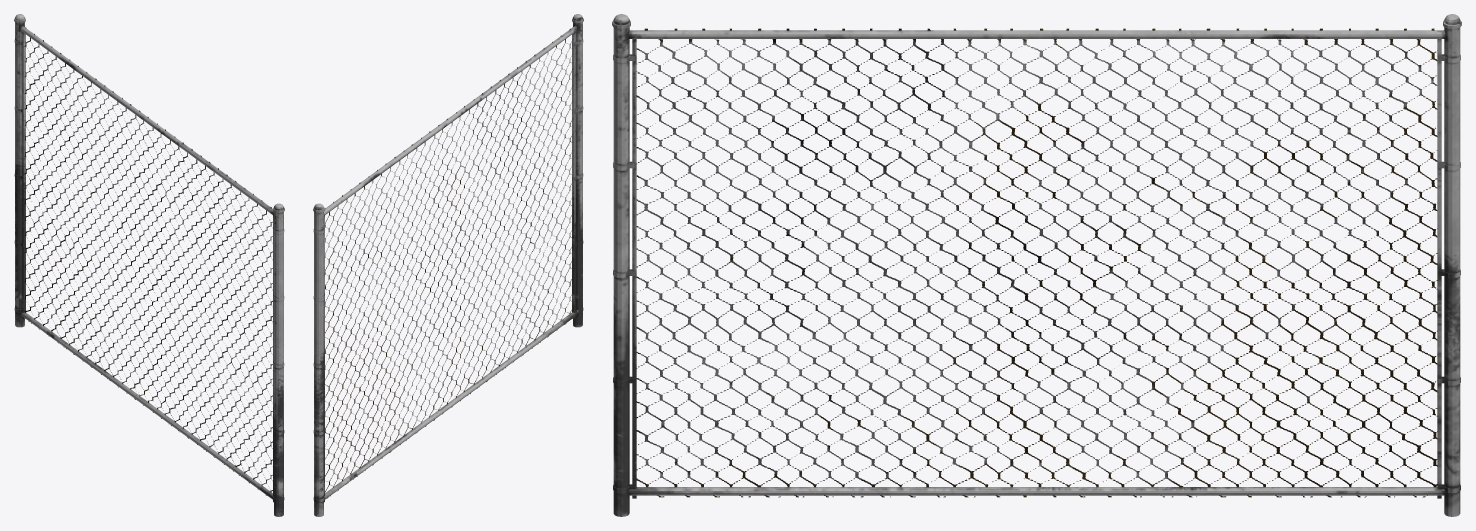
File: Rejas2.fbx
The picture shows the model from 3 angles, left to right: view 1: azimuth 30°, elevation 25°; view 2: azimuth 150°, elevation 25°; view 3: azimuth 270°, elevation 25°; orthographic projection. The views are drawn at different scales.
Visible parts, largest first — view 1: Plane.001, Cylinder, Cylinder.002, Cube, Cylinder.001; view 2: Plane.001, Cylinder, Cylinder.002, Cube, Cylinder.001; view 3: Plane.001, Cylinder, Cylinder.002, Cube, Cylinder.001.
Part boxes in pixels (bbox=[...]): Plane.001: bbox=[24, 27, 272, 495]; Cylinder: bbox=[14, 14, 284, 516]; Cylinder.002: bbox=[20, 26, 273, 499]; Cube: bbox=[22, 27, 273, 502]; Cylinder.001: bbox=[14, 40, 284, 502]; Plane.001: bbox=[325, 28, 573, 498]; Cylinder: bbox=[313, 14, 583, 516]; Cylinder.002: bbox=[324, 26, 577, 499]; Cube: bbox=[324, 27, 575, 502]; Cylinder.001: bbox=[313, 40, 583, 502]; Plane.001: bbox=[636, 28, 1437, 497]; Cylinder: bbox=[612, 14, 1461, 516]; Cylinder.002: bbox=[628, 30, 1445, 495]; Cube: bbox=[632, 30, 1441, 498]; Cylinder.001: bbox=[613, 54, 1460, 493].
Bounding box in the file's own units: 7.12 × 206 × 318.
